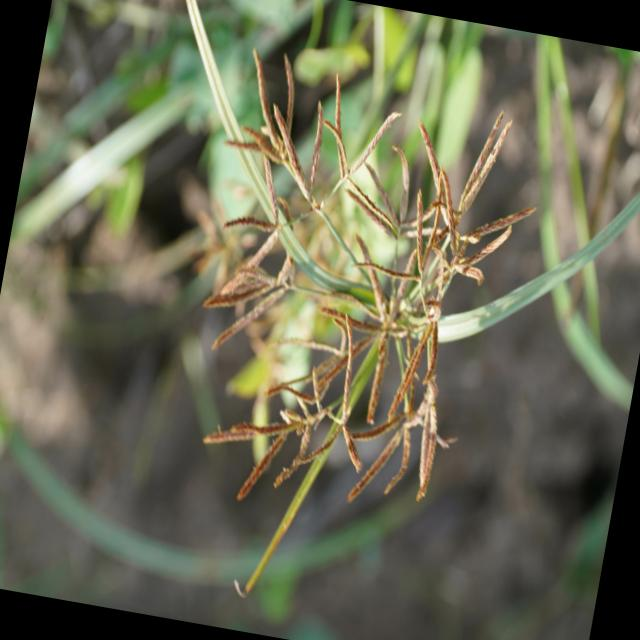cyperus: (152, 38, 560, 584)
